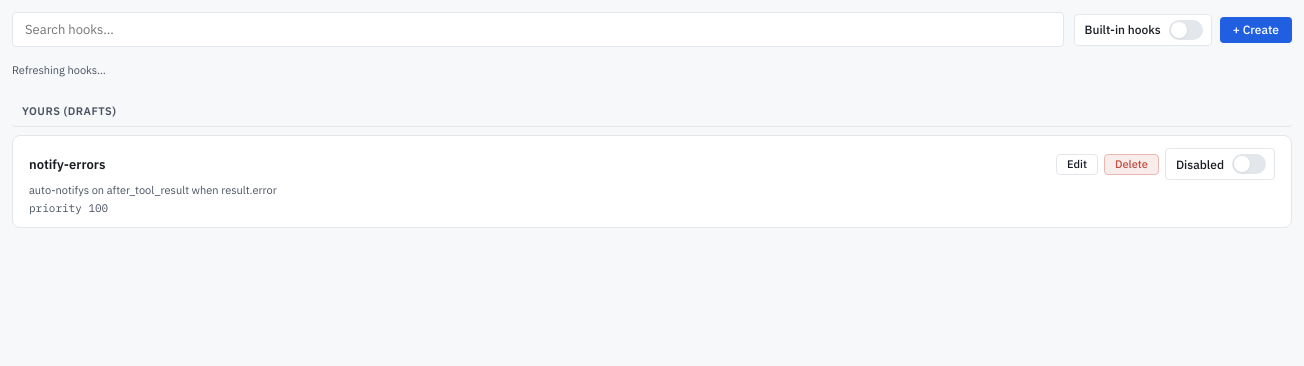
Test: HooksPanel › renders capability-aligned controls immediately and keeps built-ins off by default
Expected: the field labelled "Search hooks" is shown, [12,12,1064,47]
Expected: the button with aria-label "Create hook" is shown, [1220,16,1292,42]
Step 1. Click the switch labelled "Built-in hooks" → {"x": 1143, "y": 30}, box [1074,14,1212,46]
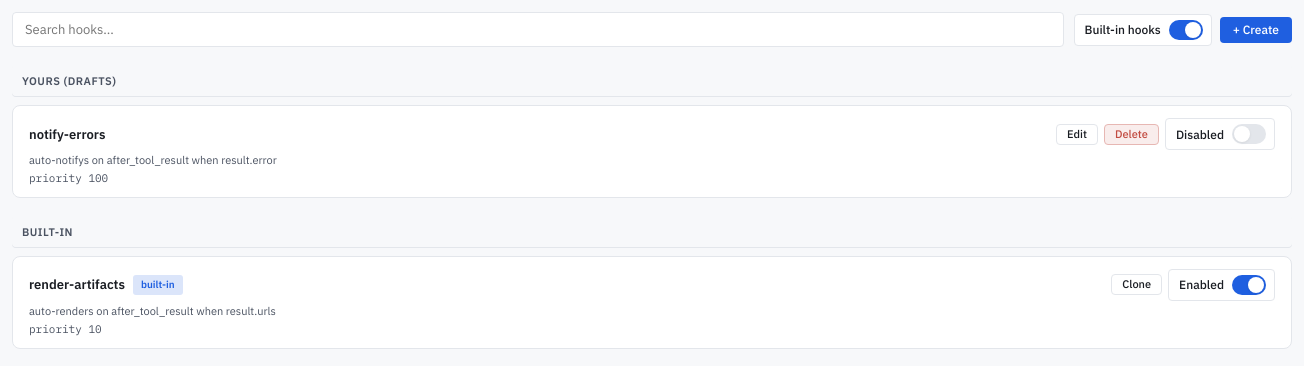
Result: the text "render-artifacts" is shown at [29,276,125,293]
Step 2. Type "missing" into the field labelled "Search hooks" → {"x": 538, "y": 30}, box [12,12,1064,47]
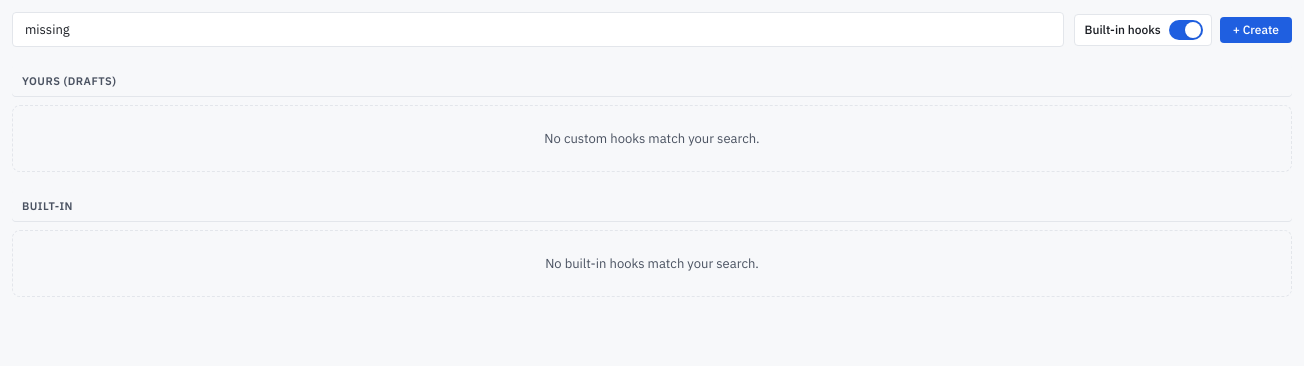
Result: the text "notify-errors" is gone
Result: the text "No custom hooks match your search." is shown at [12,105,1292,172]
